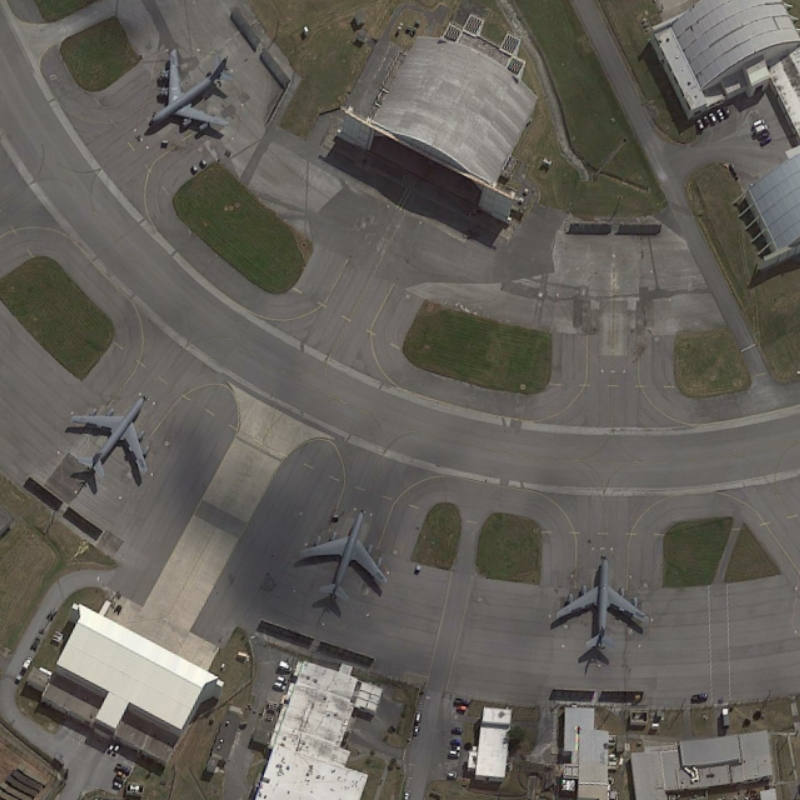A14: (543, 549, 654, 658), (290, 503, 394, 614), (60, 384, 159, 500), (143, 40, 237, 140)
